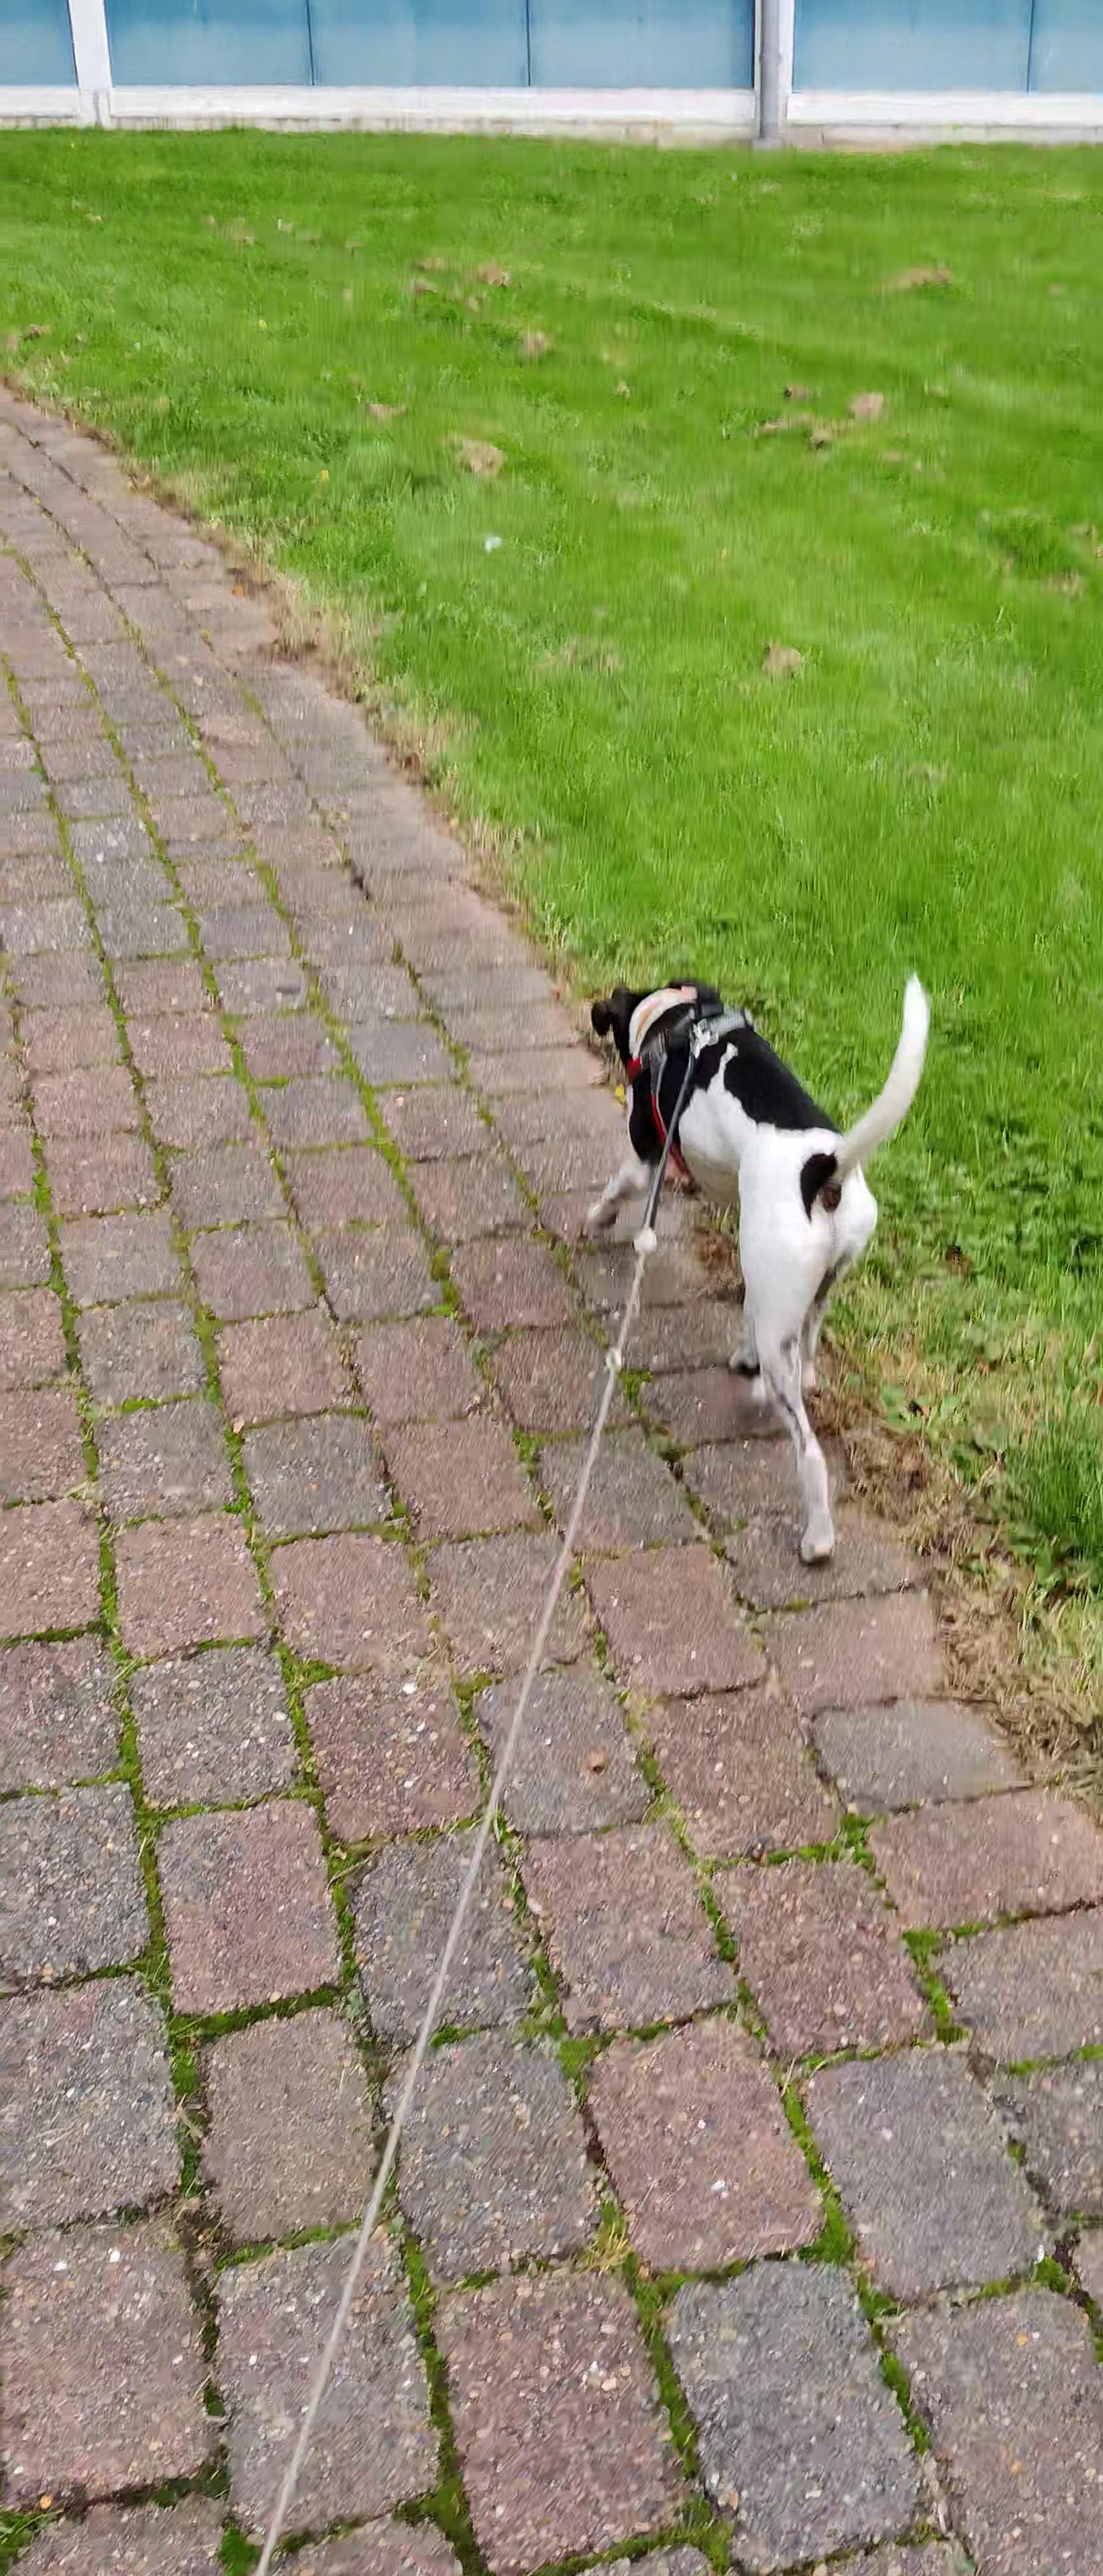Dog: (559, 941, 950, 1579)
